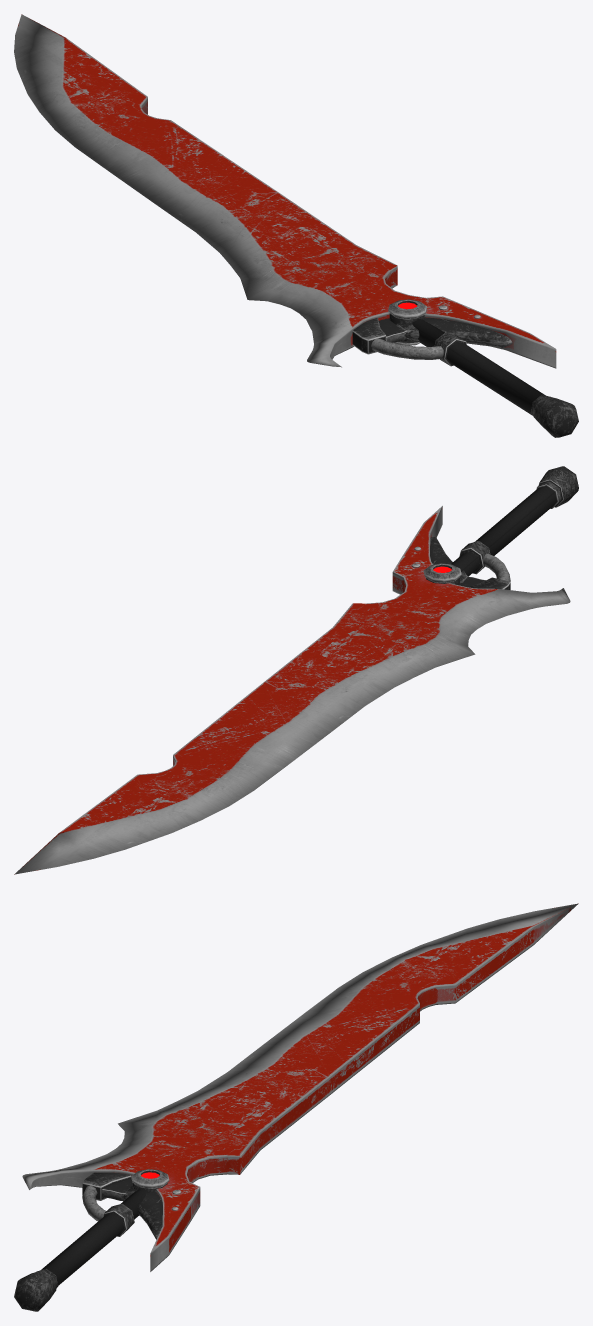
Rendered from scifi_sword.glb.
3 views of the same model, one above another, from view 1: azimuth 30°, elevation 25°; view 2: azimuth 150°, elevation 25°; view 3: azimuth 330°, elevation 25° (orthographic). The views are drawn at different scales.
Parts seen in each view (by area): view 1: Sword (×2); view 2: Sword (×2); view 3: Sword (×2).
Part boxes in pixels (x1,y1,x2,y2): Sword (×2): (14, 14, 578, 437); Sword (×2): (14, 466, 578, 874); Sword (×2): (14, 903, 578, 1311).
Size of the model in its own units: 0.3936 by 0.0705 by 2.
2 materials, 2 textured.
